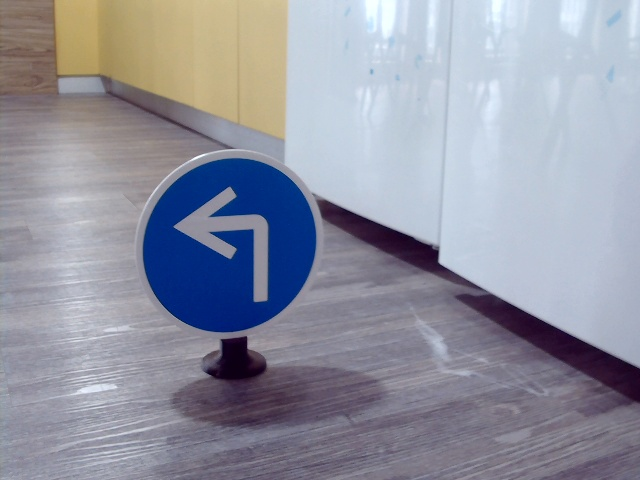turn_left: (173, 185, 282, 304)
